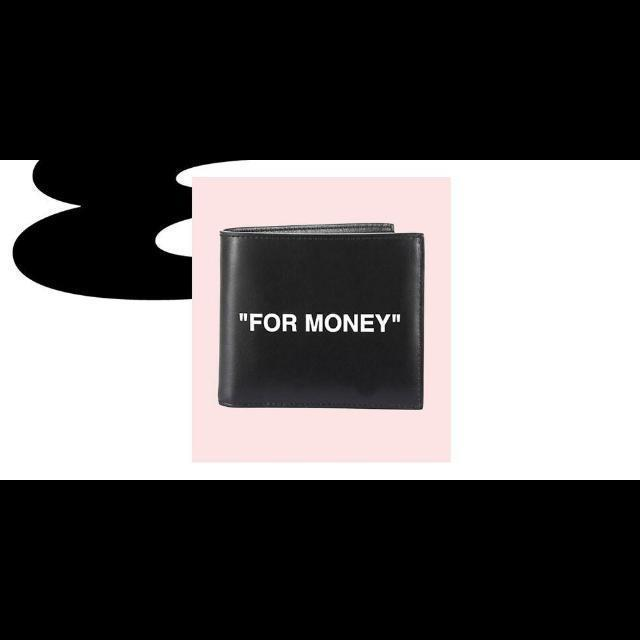wallet: (217, 223, 426, 413)
